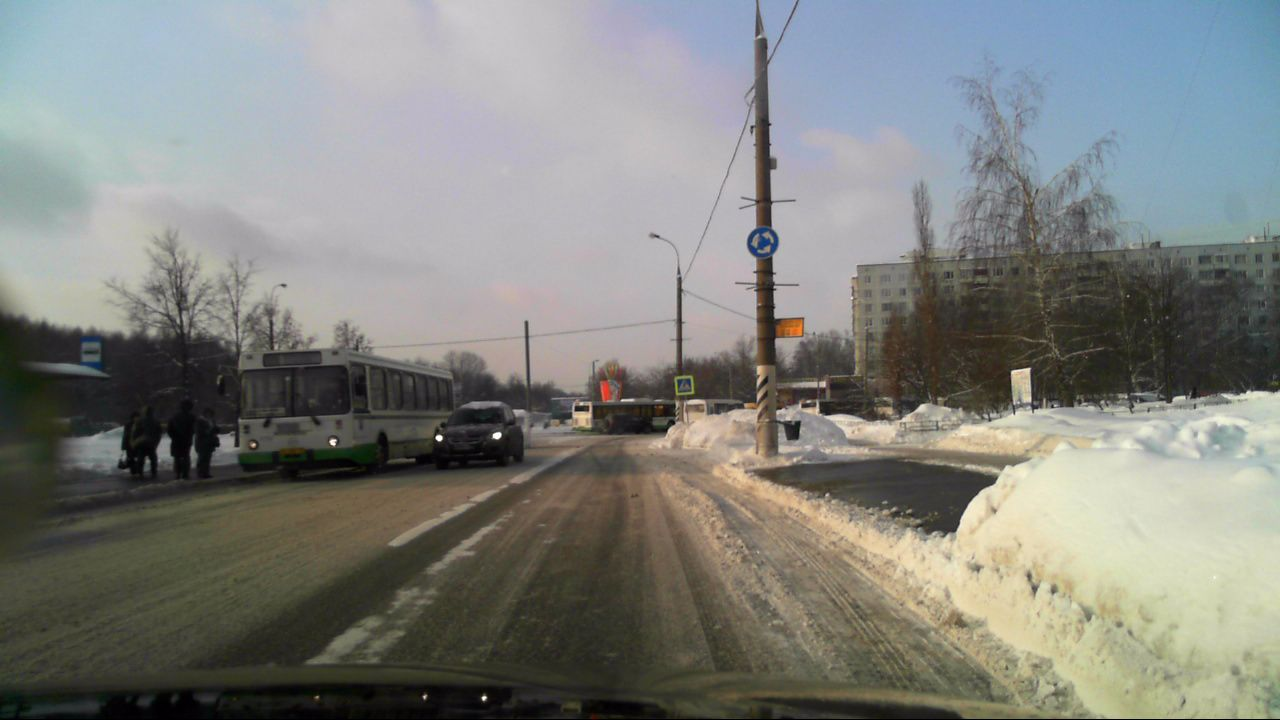Round-About: (747, 224, 780, 261)
